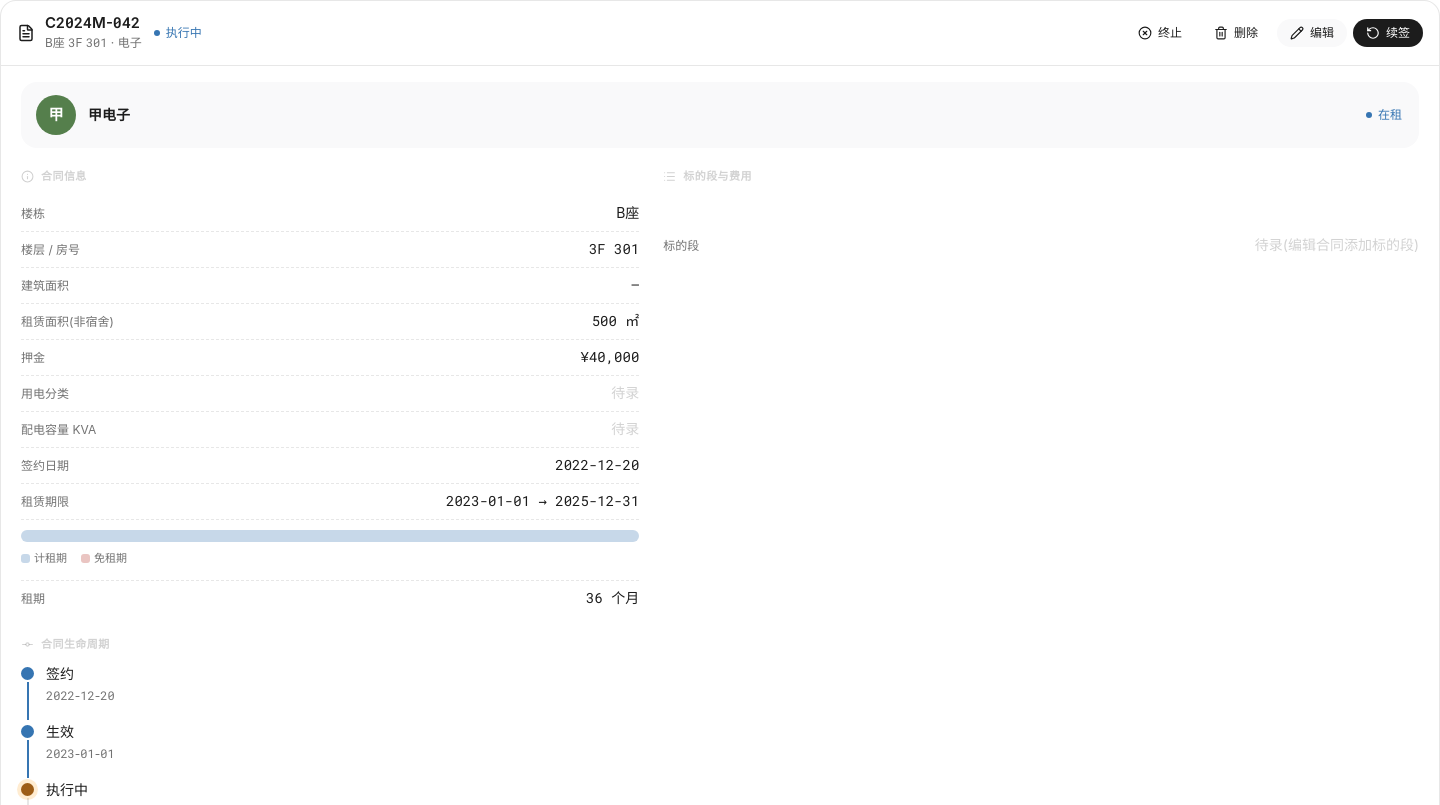
Test: 合同终止框 · 解约月挂着的表 › ❗打开即按解约日取表清单,房号对得上的默认勾;框里写明解约当月水电整月归原户
Click the button "终止": (1160, 33) [1125,19,1195,47]
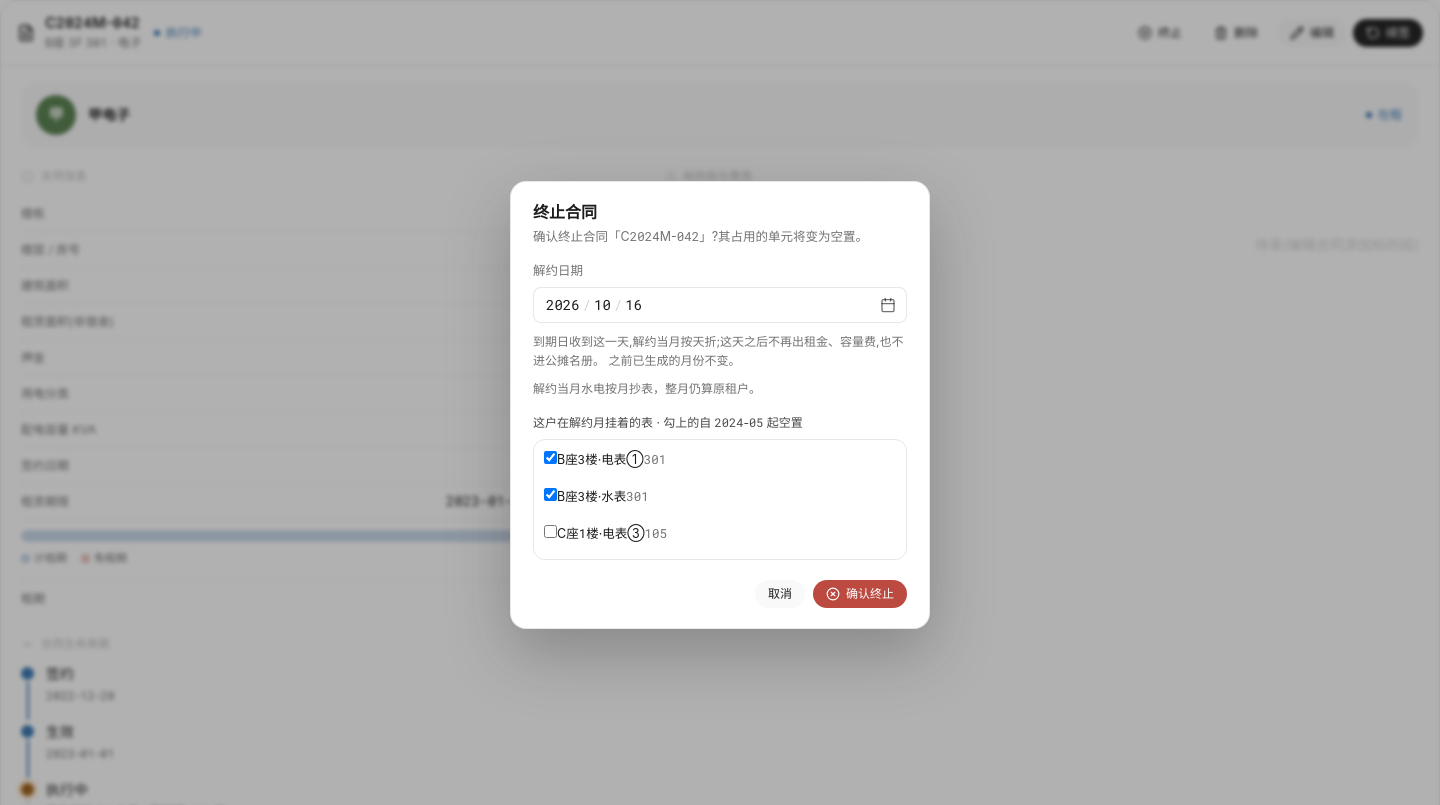
Check: the dialog with class "cd-dlg" shows "勾上的自 2024-05 起空置", box [653,415,803,430]
Check: the dialog with class "cd-dlg" shows "解约当月水电按月抄表，整月仍算原租户", box [533,381,761,396]
